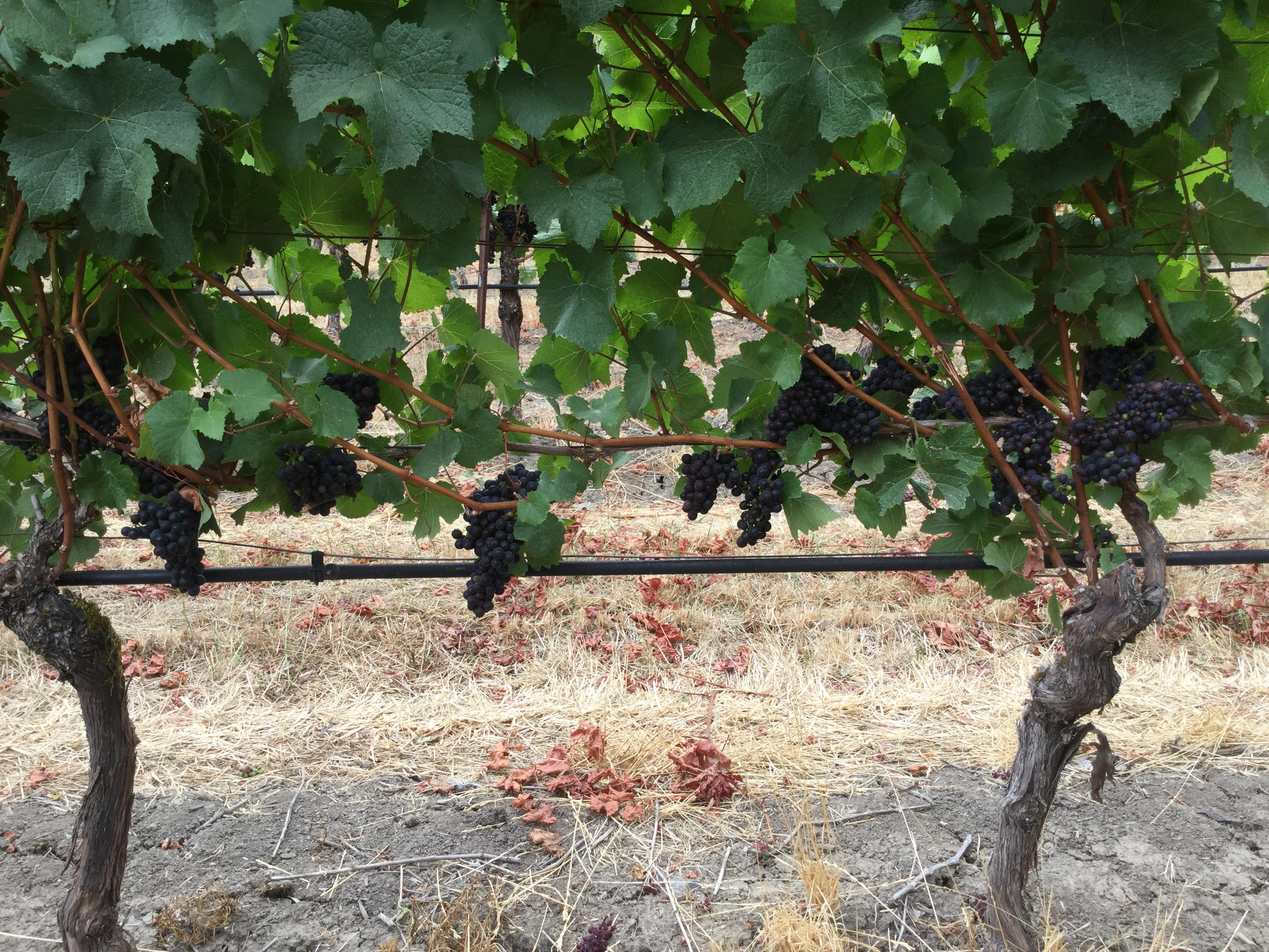leaf: (2, 56, 201, 234), (290, 9, 473, 171), (1044, 0, 1218, 131), (744, 0, 899, 142), (498, 22, 600, 136), (985, 51, 1088, 151), (617, 258, 714, 363), (383, 133, 482, 229), (520, 163, 623, 247), (537, 247, 615, 353), (276, 167, 371, 243), (186, 37, 269, 119), (1193, 175, 1268, 265), (422, 0, 509, 71), (948, 258, 1035, 327), (729, 236, 806, 311), (340, 278, 404, 362), (113, 0, 215, 49), (140, 391, 204, 467), (808, 170, 881, 236), (902, 161, 962, 231), (613, 143, 664, 222), (214, 0, 294, 49), (217, 368, 282, 425), (1041, 255, 1105, 312), (74, 453, 138, 509), (1231, 120, 1268, 205), (299, 385, 358, 438), (468, 327, 520, 387), (1097, 290, 1147, 345), (784, 490, 839, 538), (411, 428, 462, 479), (560, 0, 617, 31), (570, 168, 572, 172)
